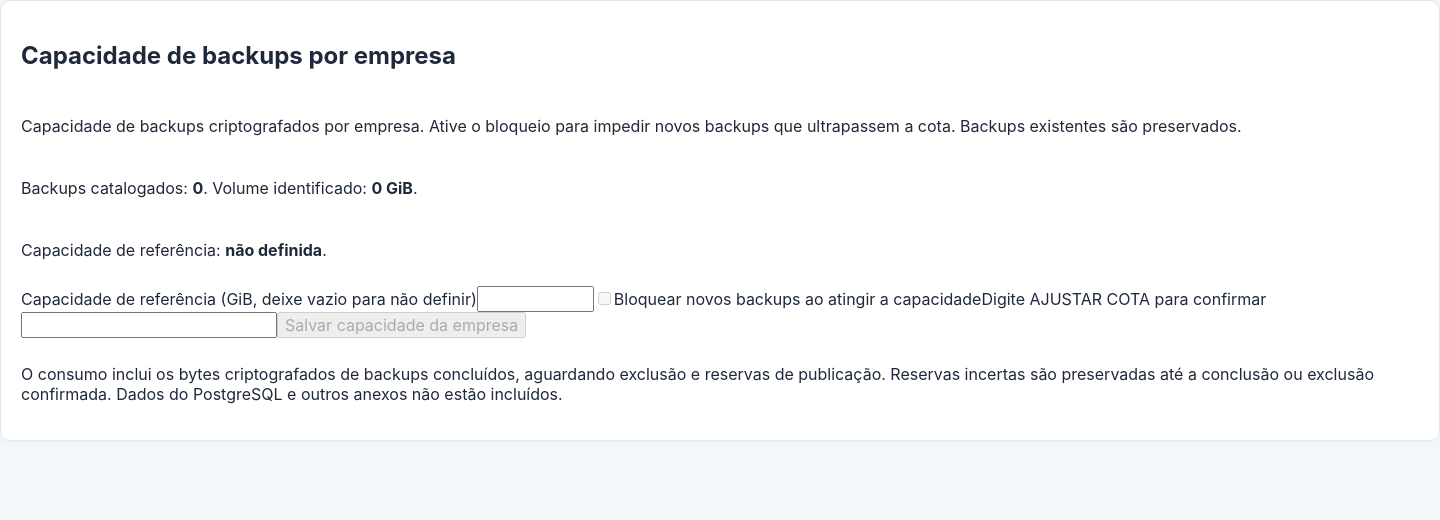
Scenario: requires confirmation for a custom storage allocation
Expected: the text "Backups catalogados: 0. Volume identificado: 0 GiB." is shown, [21,178,418,198]
Expected: the button "Salvar capacidade da empresa" is disabled, [277,312,526,338]
Type "64" into the number field labelled "Capacidade de referência (GiB, deixe vazio para não definir)" at (535, 299), box [477,286,594,312]
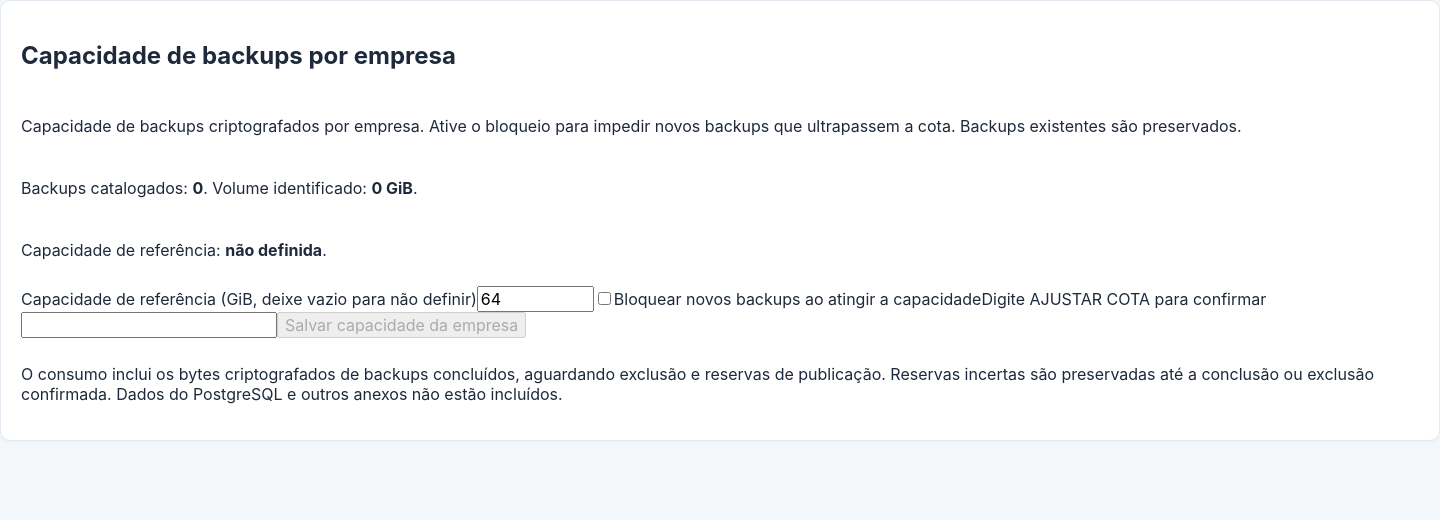
Type "AJUSTAR COTA" into the field labelled "Digite AJUSTAR COTA para confirmar" at (149, 325), box [21,312,277,338]
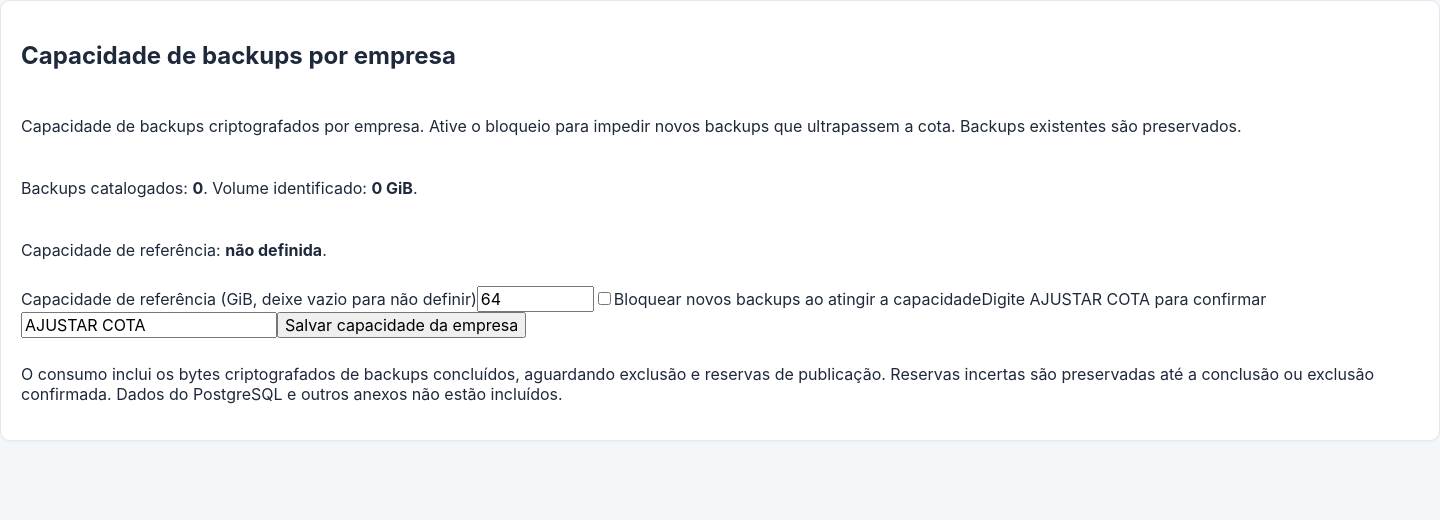
Click the button "Salvar capacidade da empresa" at (402, 325), box [277,312,526,338]
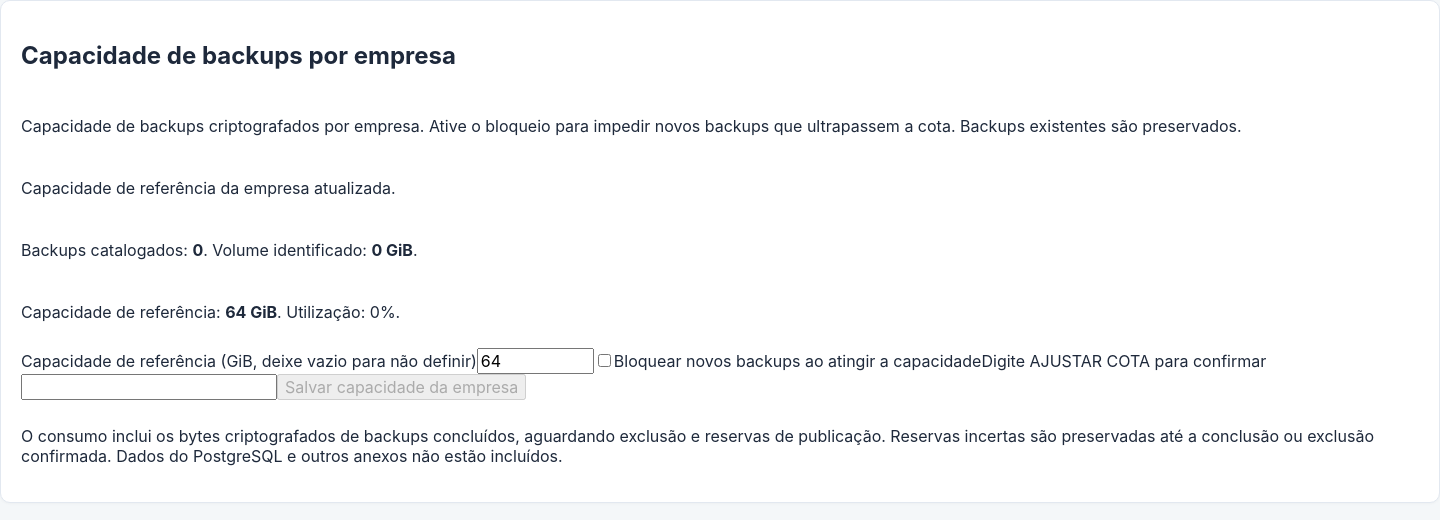
Expected: the text "Capacidade de referência da empresa atualizada." is shown, [21,178,396,198]
